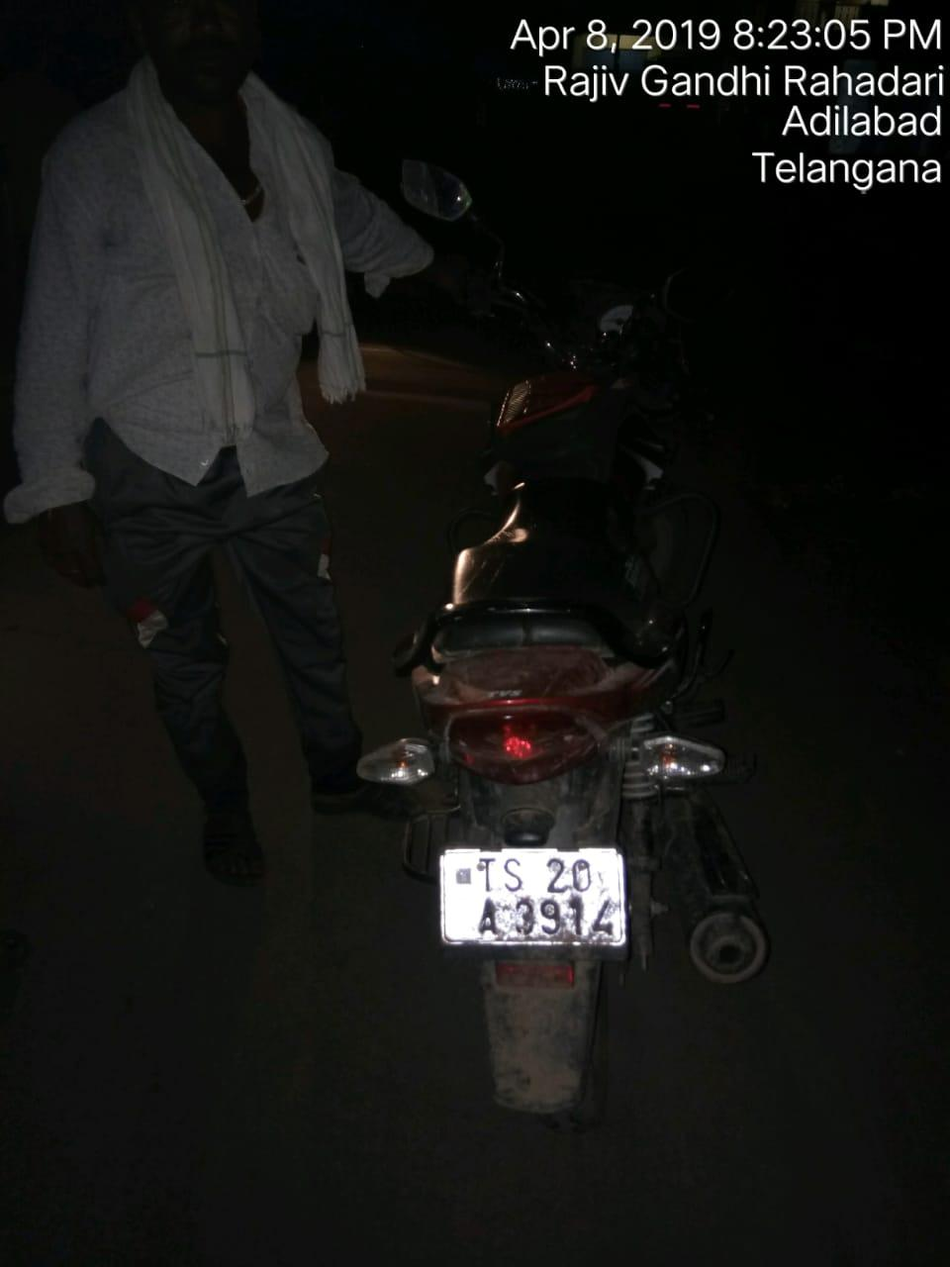plate: (415, 821, 642, 988)
